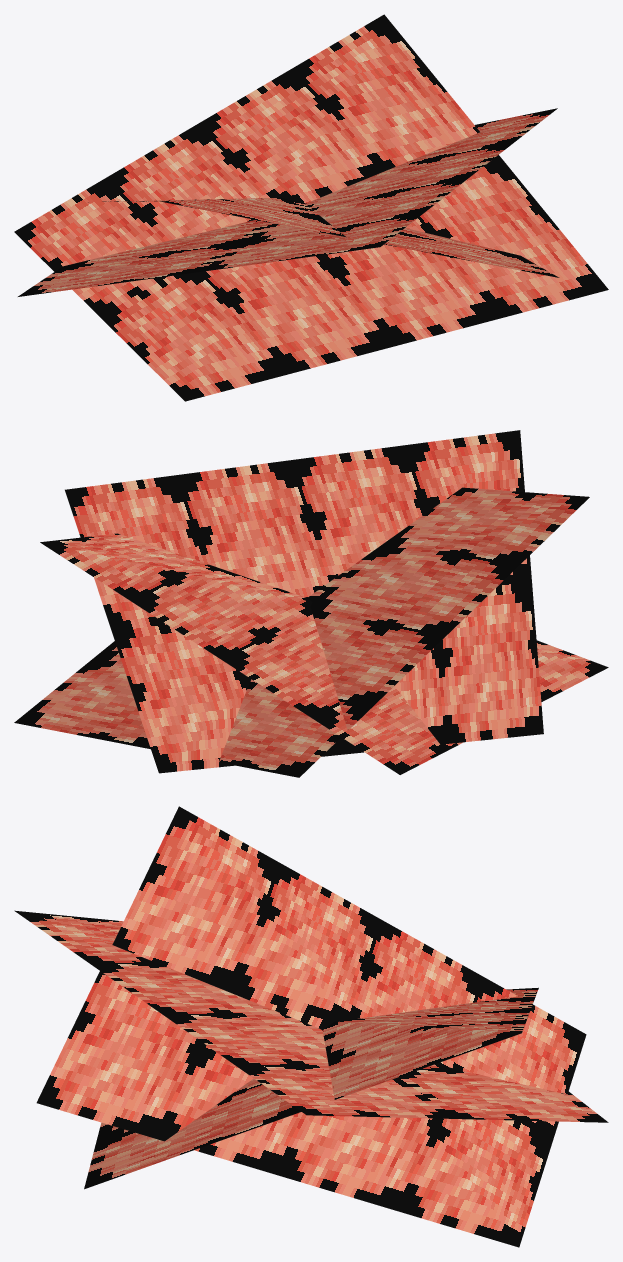
3 renders of one model, top to bottom at view 1: azimuth 30°, elevation 25°; view 2: azimuth 150°, elevation 25°; view 3: azimuth 270°, elevation 25°, orthographic. The views are drawn at different scales.
Visible parts, largest first — view 1: ef_745; view 2: ef_745; view 3: ef_745.
Part boxes in pixels (x1,y1,x2,y2): ef_745: (14,14,608,401); ef_745: (14,430,608,777); ef_745: (14,806,608,1247).
Size of the model in its own units: 0.2896 by 0.1133 by 0.272.
1 material, 1 textured.
